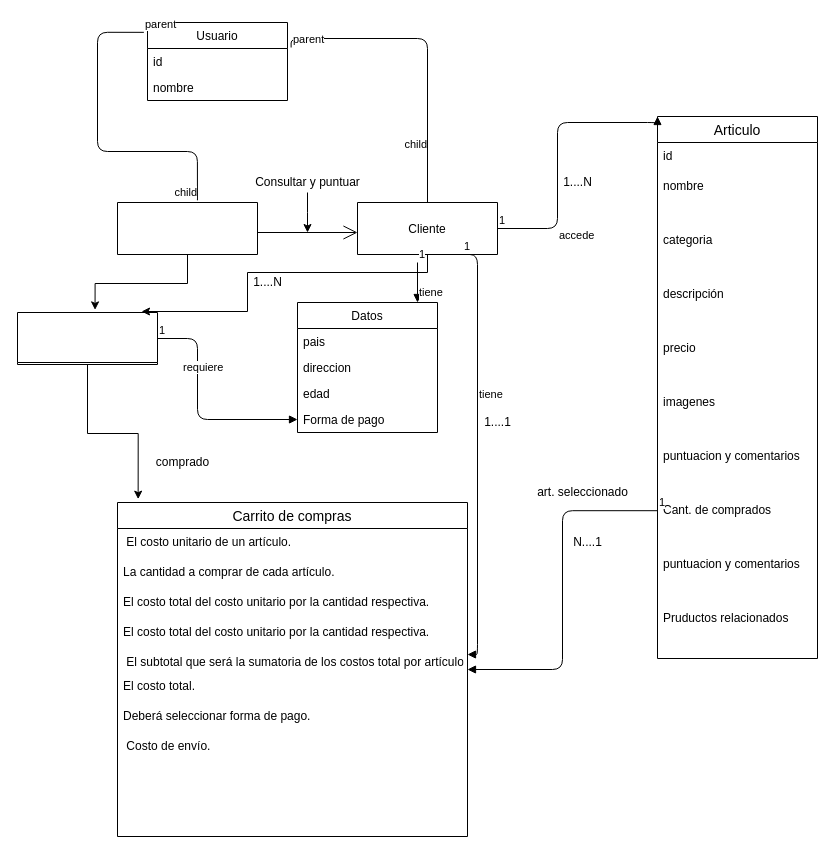
The diagram is 835 pixels wide and 857 high, and some of its shapes have lost their labels. Each missing label, with the centre of its shape:
"Envio" goes at pixel 87 338.
"Vendedor" goes at pixel 187 228.
